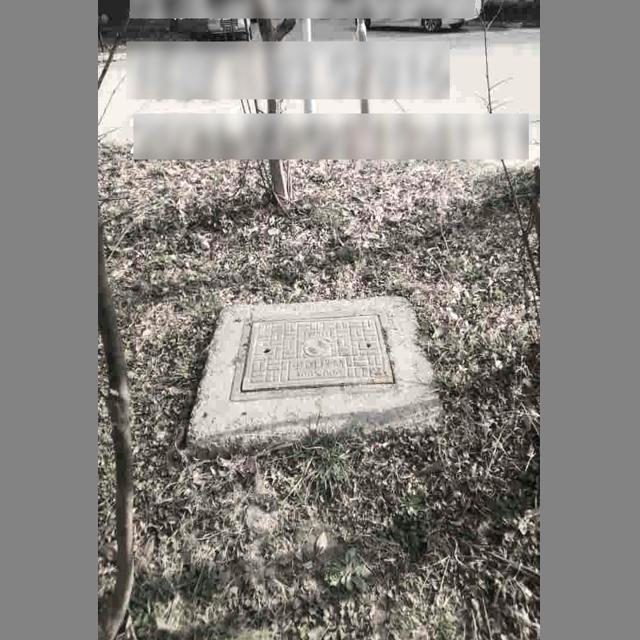good: (230, 307, 402, 399)
